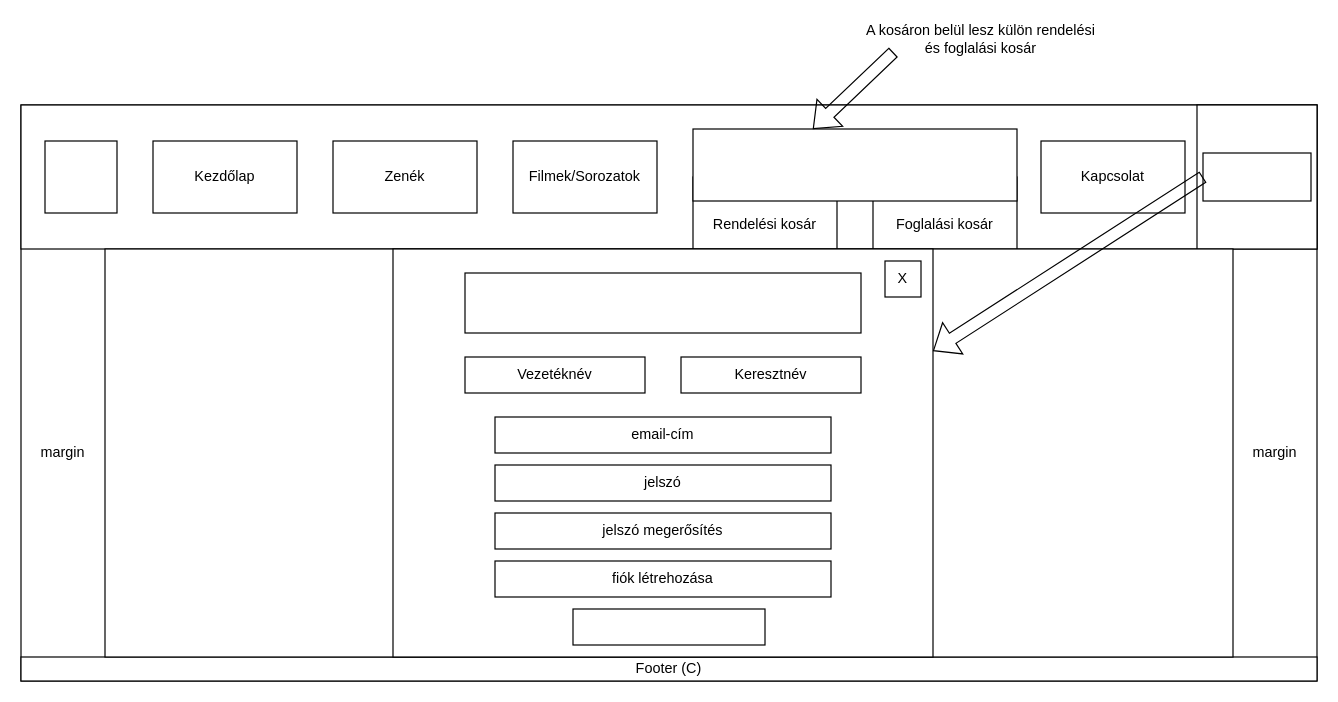
The diagram is 1338 pixels wide and 702 high, and some of its shapes have lost their labels. The centre of each missing label's shape, as x and y in pixels:
"Fiók Bej/Reg" goes at (1256,176).
"Kosár" goes at (854,164).
"Logo" goes at (80,176).
"Már van fiókom" goes at (668,626).
"Regisztráció" goes at (662,302).
